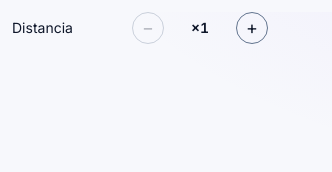
Scenario: Stepper › steps up and down between its bounds
expect the button named "Menos: Distancia" is disabled: met, box [132,12,164,44]
Click the button named "Más: Distancia" at (252, 28), box [236,12,268,44]
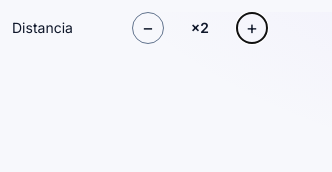
Click the button named "Más: Distancia" at (252, 28), box [236,12,268,44]
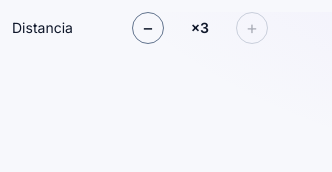
expect the text "×3" is shown: met, box [191,19,209,36]
expect the button named "Más: Distancia" is disabled: met, box [236,12,268,44]
Click the button named "Menos: Distancia" at (148, 28), box [132,12,164,44]
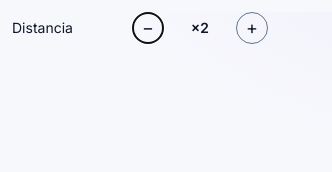
expect the button named "Menos: Distancia" is enabled: met, box [132,12,164,44]
expect the text "×2" is shown: met, box [191,19,209,36]
